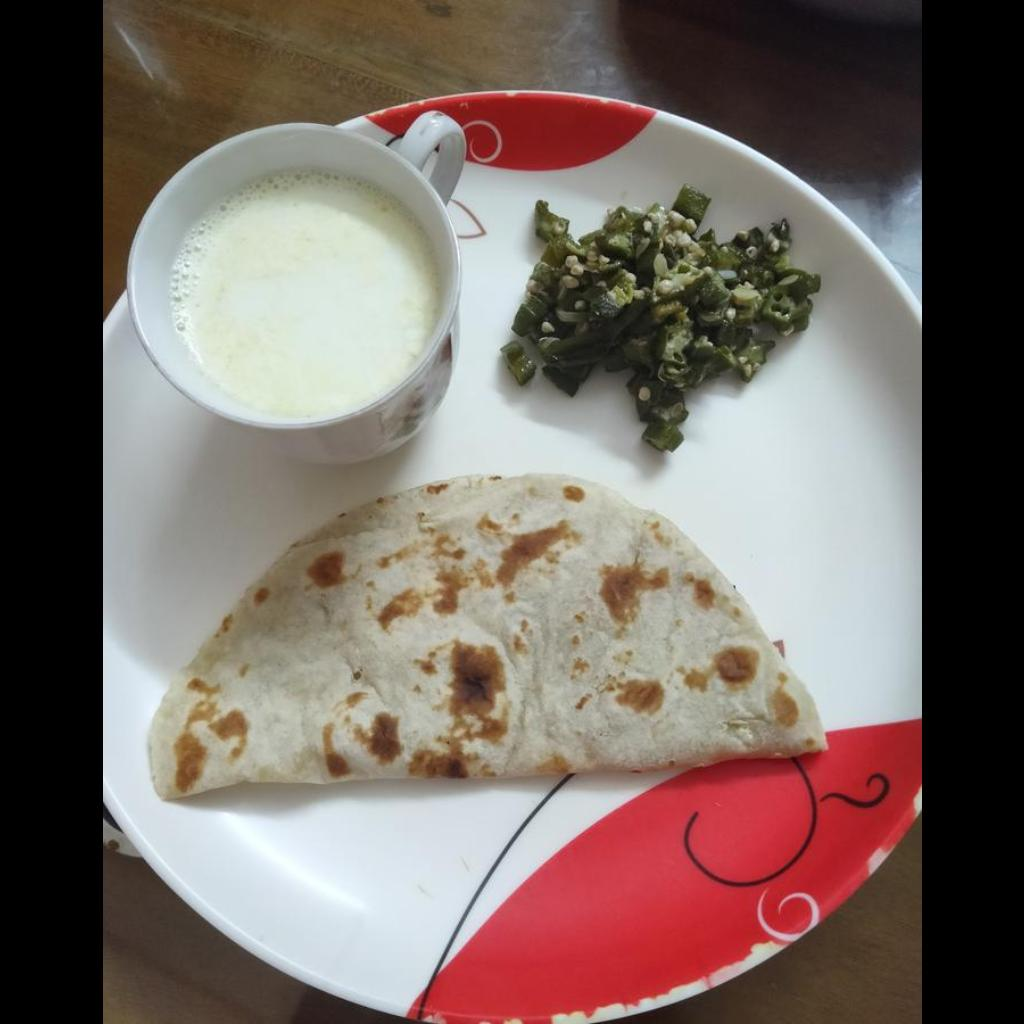milk: (172, 172, 434, 418)
okra: (501, 186, 840, 442)
ruti: (142, 476, 826, 802)
